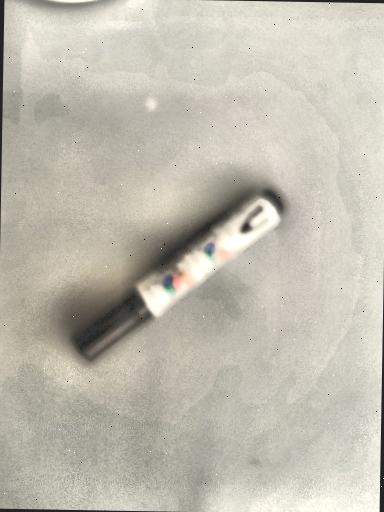marcador negro: (74, 190, 282, 360)
